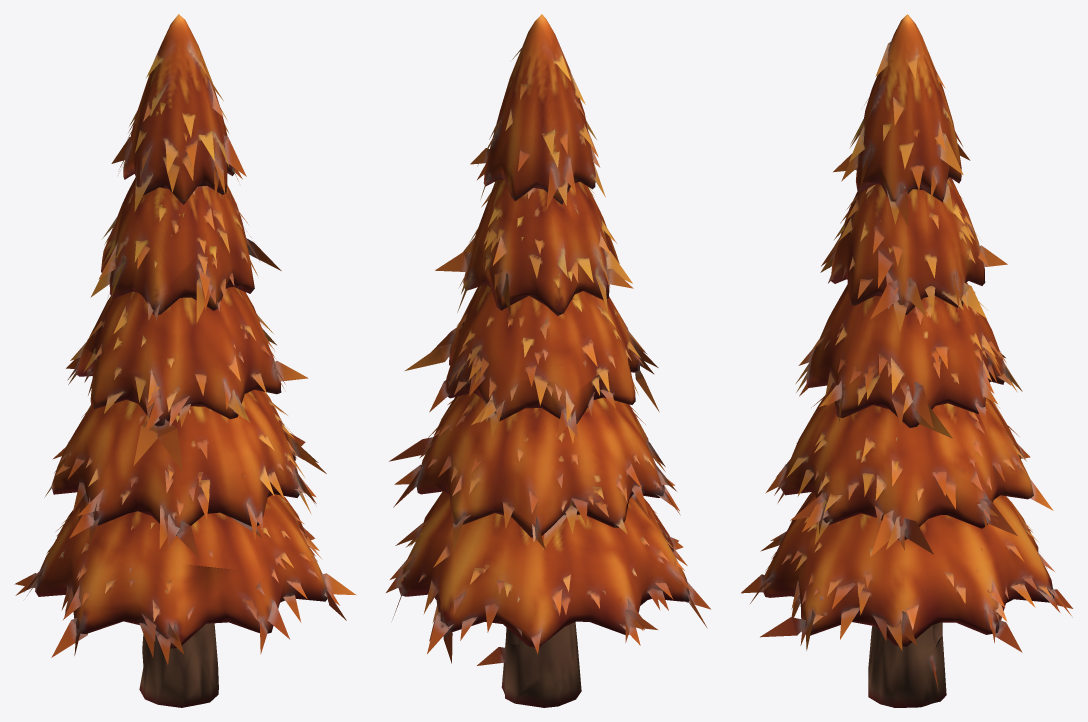
The model's file is pine_b.glb.
The picture shows the model from 3 angles, left to right: view 1: azimuth 30°, elevation 25°; view 2: azimuth 150°, elevation 25°; view 3: azimuth 270°, elevation 25°; orthographic projection.
Visible parts, largest first — view 1: pine_b; view 2: pine_b; view 3: pine_b.
Boxes of the visible parts, x1,y1,x2,y2 form: pine_b: [14, 14, 356, 707]; pine_b: [386, 14, 710, 707]; pine_b: [741, 14, 1072, 707].
Bounding box in the file's own units: 1.99 × 4.46 × 1.99.
Materials: 1 (1 with a texture image).
